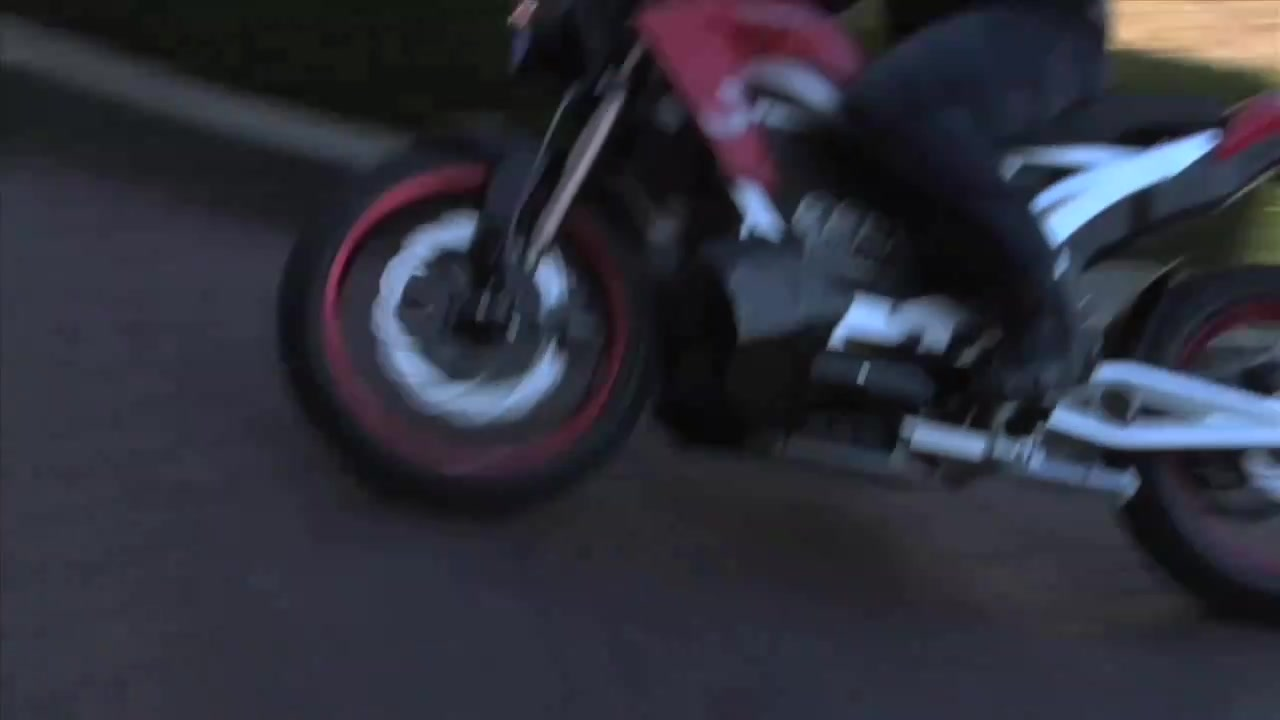motorbike: (262, 1, 1280, 633)
